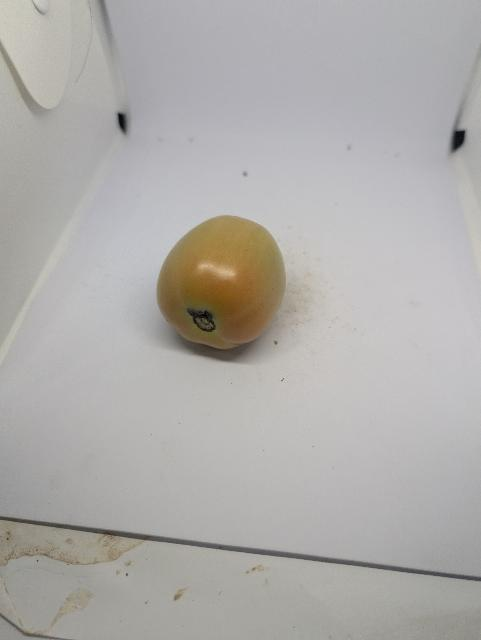turning: (152, 209, 292, 357)
